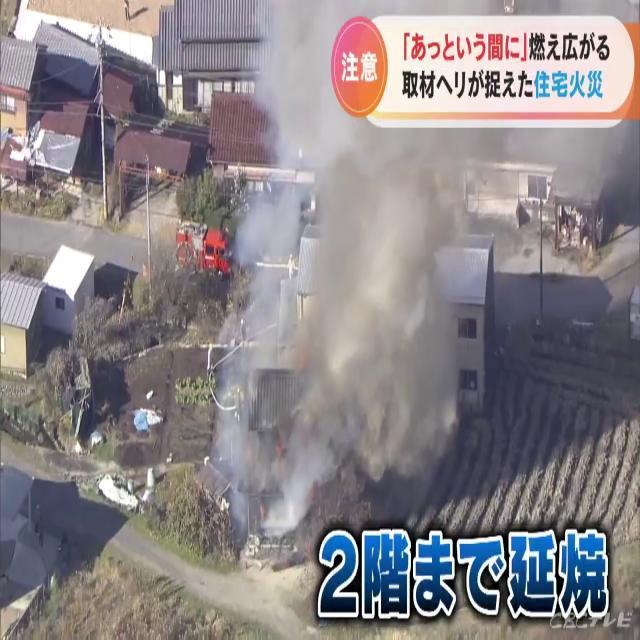Smoke: (212, 8, 468, 532)
